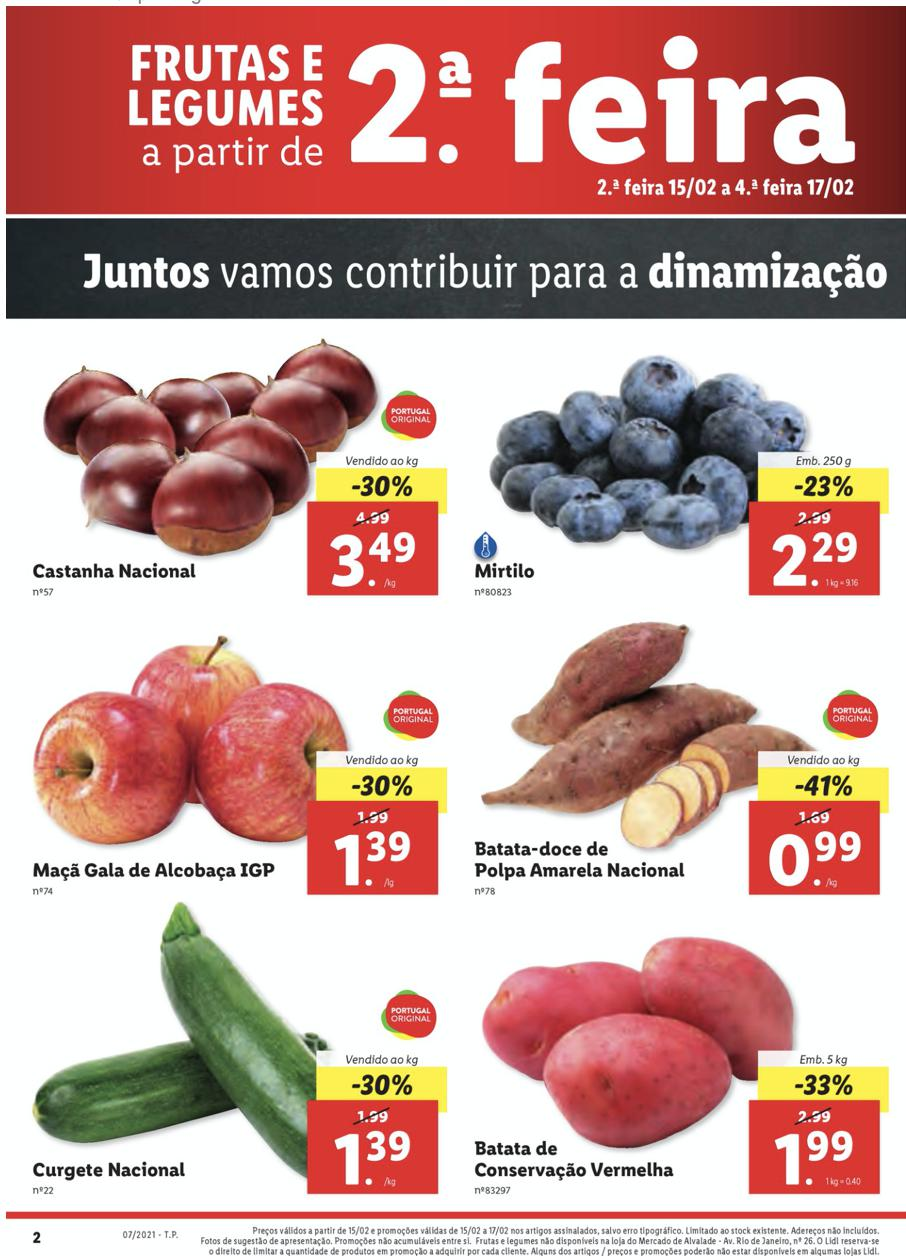name: (471, 1136, 681, 1183), (470, 838, 687, 880), (29, 860, 278, 883), (31, 558, 203, 583), (29, 1158, 190, 1180), (474, 561, 538, 586)
price: (767, 825, 863, 896), (770, 530, 863, 593), (328, 530, 418, 593), (773, 1129, 856, 1188), (335, 829, 417, 888), (337, 1129, 417, 1188)
product: (442, 924, 899, 1202), (18, 904, 442, 1202), (459, 616, 885, 911), (449, 330, 896, 610), (18, 621, 454, 904), (20, 332, 457, 611)
promotion: (792, 768, 854, 805), (790, 471, 856, 502), (351, 1069, 417, 1099), (349, 772, 418, 799), (354, 474, 415, 502), (792, 1072, 854, 1099)
